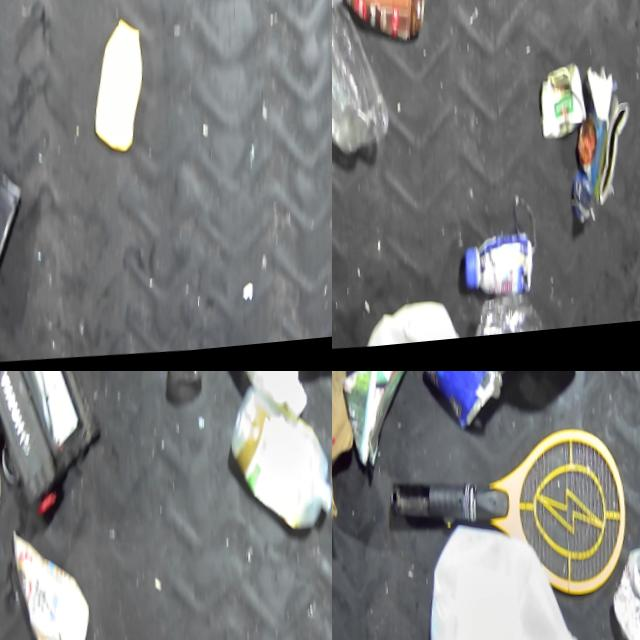can: (556, 100, 628, 234), (529, 68, 585, 148), (601, 554, 640, 640)
milk_jug: (418, 512, 577, 640), (221, 385, 332, 542)
